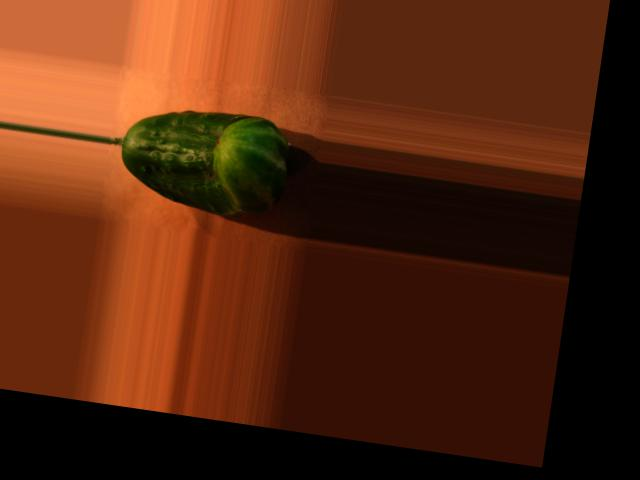cucumber: (113, 96, 294, 222)
